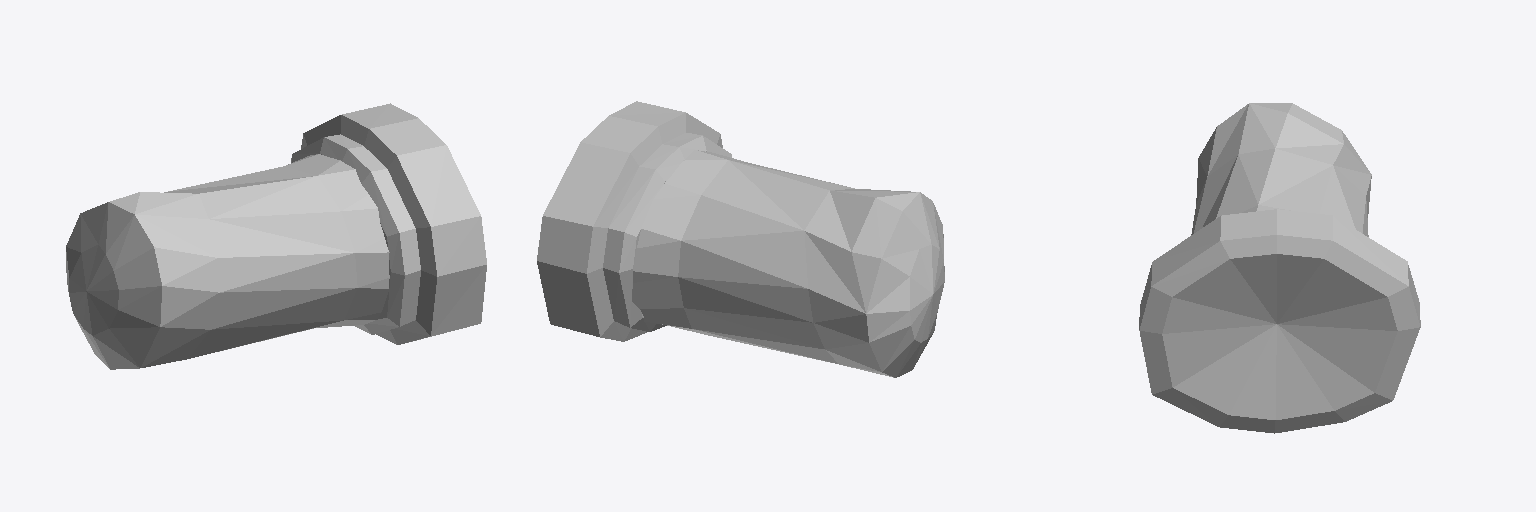
File: armDL.obj
The picture shows the model from 3 angles: view 1: azimuth 30°, elevation 25°; view 2: azimuth 150°, elevation 25°; view 3: azimuth 270°, elevation 25°; orthographic projection.
Parts seen in each view (by area): view 1: armDL mat4, mat8 armDL; view 2: armDL mat4, mat8 armDL; view 3: mat8 armDL, armDL mat4.
Boxes of the visible parts, x1,y1,x2,y2 form: armDL mat4: [66, 154, 389, 369]; mat8 armDL: [291, 103, 486, 344]; armDL mat4: [632, 150, 944, 377]; mat8 armDL: [537, 101, 731, 341]; mat8 armDL: [1139, 209, 1420, 433]; armDL mat4: [1191, 103, 1371, 236].
Size of the model in its own units: 0.2888 by 0.1667 by 0.21.